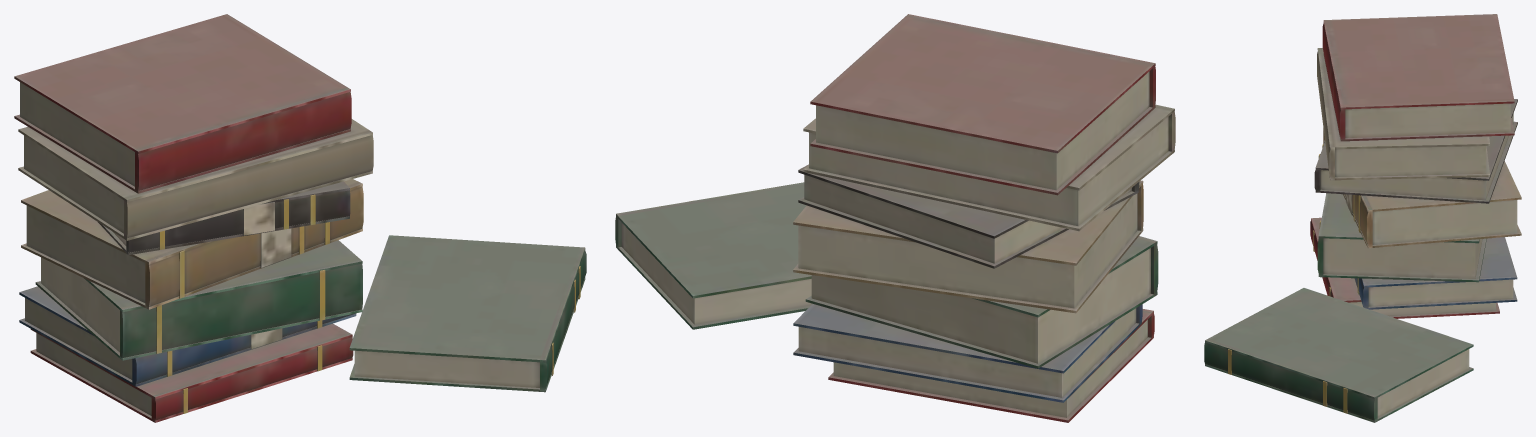
File: pilha_livros.glb
3 views of the same model, side by side, from view 1: azimuth 30°, elevation 25°; view 2: azimuth 150°, elevation 25°; view 3: azimuth 270°, elevation 25° (orthographic). The views are drawn at different scales.
Parts seen in each view (by area): view 1: livros; view 2: livros; view 3: livros.
Boxes of the visible parts, left/top/right/bottom form: livros: left=14, top=14, right=586, bottom=422; livros: left=615, top=14, right=1175, bottom=422; livros: left=1204, top=14, right=1521, bottom=422.
Size of the model in its own units: 0.4954 by 0.2518 by 0.3367.
1 material, 1 textured.
